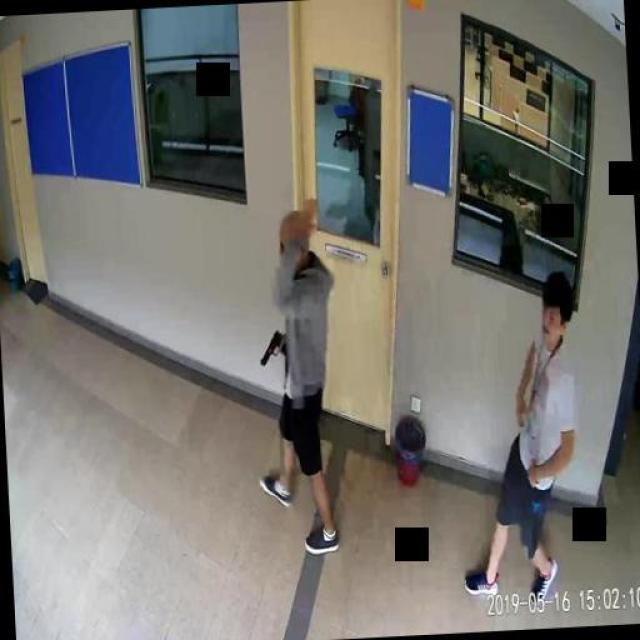gun: (256, 328, 285, 367)
